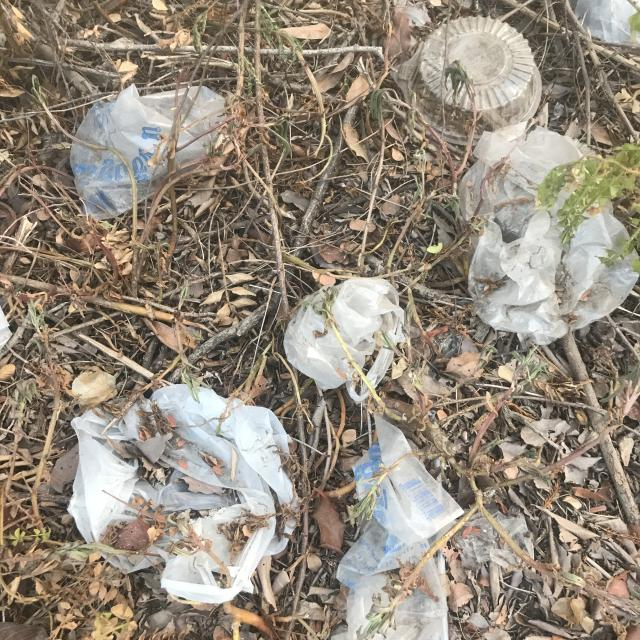Single-layer Plastic: (68, 385, 299, 604), (459, 122, 639, 344), (326, 414, 488, 640), (52, 73, 242, 220), (284, 278, 405, 404)
